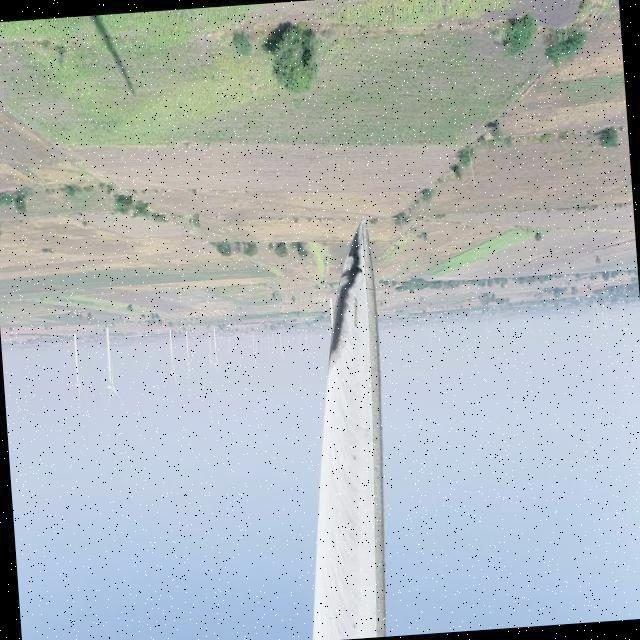Dirt: (310, 223, 389, 638)
Oil LEAKAGE: (327, 223, 365, 361)
Pin Hole: (352, 452, 362, 467), (355, 265, 364, 277)
